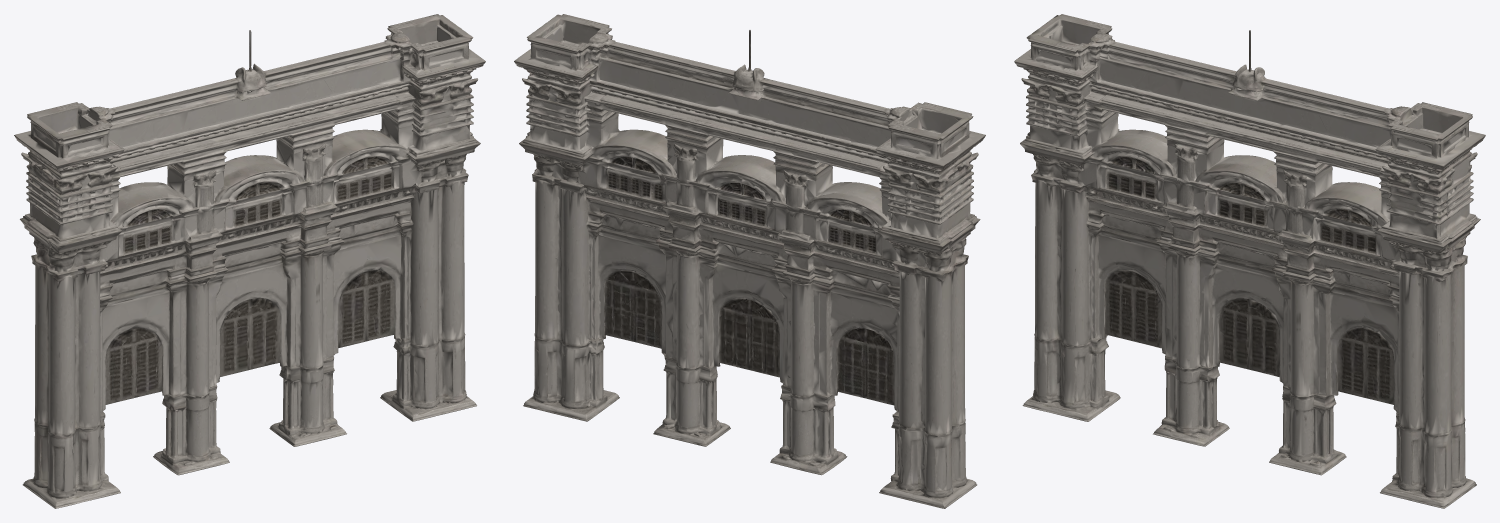
The model's file is museum-colonnade.glb.
The picture shows the model from 3 angles, left to right: view 1: azimuth 30°, elevation 25°; view 2: azimuth 150°, elevation 25°; view 3: azimuth 330°, elevation 25°; orthographic projection.
Size of the model in its own units: 1.9 by 1.76 by 0.3262.
Materials: 1 (1 with a texture image).
